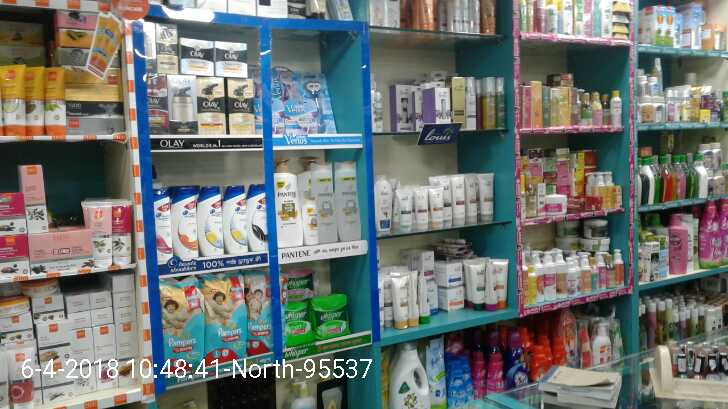venus: (307, 71, 332, 132), (272, 100, 307, 132), (274, 67, 297, 93)
